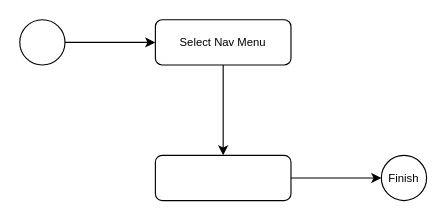
Some shapes in this 446 by 220 pixel diagram are drawn without their labels. The shapes that lost their labels are listed below. From the top down, each one's centre as x and y in pixels, then its label:
point 42,42: Start
point 222,177: Click Events Link
